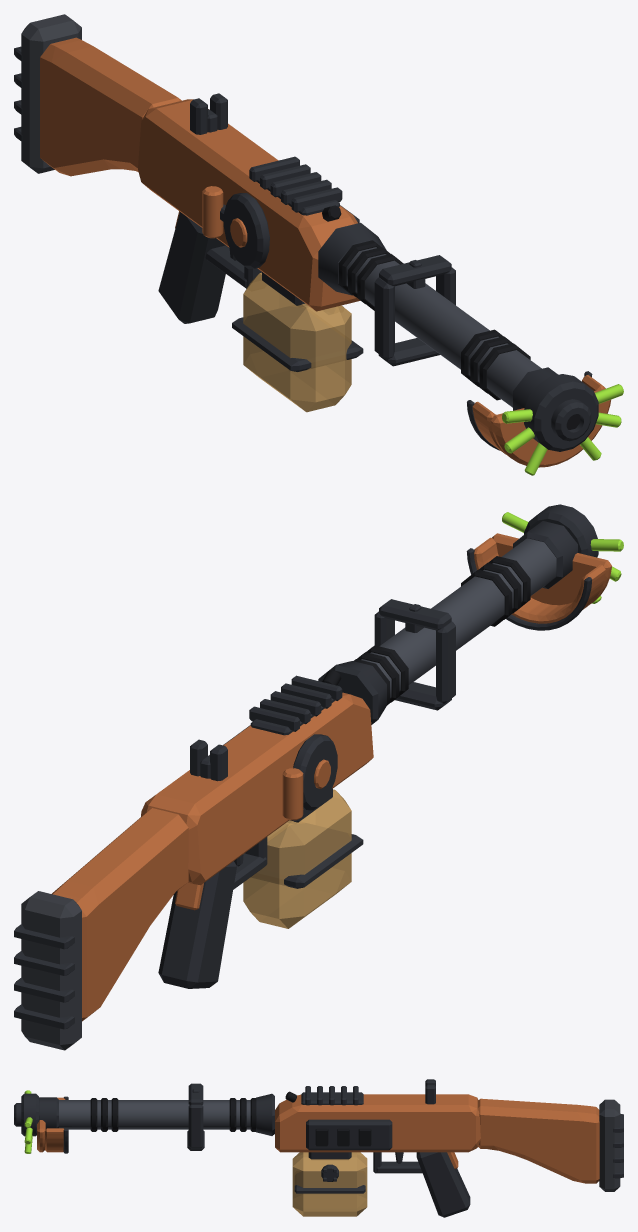
File: w_autoshot@autoshot_trimmer.glb
The picture shows the model from 3 angles, top to bottom: view 1: azimuth 30°, elevation 25°; view 2: azimuth 150°, elevation 25°; view 3: azimuth 270°, elevation 25°; orthographic projection. The views are drawn at different scales.
Visible parts, largest first — view 1: body_wzA__orange__pb5683a, stock_wzA__orange__pb5683a, mag_wzA__tank__gc69a5ad1, head_wzB__dark__p2b2e35, barrel_wzB__shaft__p444851, grip_wzB__dark__p2b2e35, mag_wzB__dark__p2b2e35, fore_wzB__dark__p2b2e35, stock_wzB__foam__p3a3d44, grips_wzN__black__p16171b, guard_wzA__orange__pb5683a, starter_wzB__dark__p2b2e35 (+4 smaller); view 2: body_wzA__orange__pb5683a, stock_wzA__orange__pb5683a, mag_wzA__tank__gc69a5ad1, barrel_wzB__shaft__p444851, grip_wzB__dark__p2b2e35, stock_wzB__foam__p3a3d44, head_wzB__dark__p2b2e35, mag_wzB__dark__p2b2e35, fore_wzB__dark__p2b2e35, guard_wzA__orange__pb5683a, grips_wzN__black__p16171b, stock_wzN__dark__p2b2e35 (+6 smaller); view 3: body_wzA__orange__pb5683a, stock_wzA__orange__pb5683a, barrel_wzB__shaft__p444851, mag_wzA__tank__gc69a5ad1, grip_wzB__dark__p2b2e35, head_wzB__dark__p2b2e35, muffler_wzB__dark__p2b2e35, stock_wzB__foam__p3a3d44, mag_wzB__dark__p2b2e35, grips_wzN__black__p16171b, fore_wzB__dark__p2b2e35, muffler_wzN__black__p16171b (+6 smaller).
Part boxes in pixels (x1,y1,x2,y2): body_wzA__orange__pb5683a: (138, 99, 360, 311); stock_wzA__orange__pb5683a: (40, 37, 181, 176); mag_wzA__tank__gc69a5ad1: (243, 272, 351, 412); head_wzB__dark__p2b2e35: (249, 156, 598, 451); barrel_wzB__shaft__p444851: (346, 247, 541, 407); grip_wzB__dark__p2b2e35: (158, 212, 261, 323); mag_wzB__dark__p2b2e35: (232, 272, 363, 371); fore_wzB__dark__p2b2e35: (374, 255, 455, 366); stock_wzB__foam__p3a3d44: (21, 14, 81, 173); grips_wzN__black__p16171b: (339, 240, 530, 400); guard_wzA__orange__pb5683a: (472, 375, 610, 467); starter_wzB__dark__p2b2e35: (223, 193, 269, 268); body_wzA__orange__pb5683a: (141, 692, 373, 885); stock_wzA__orange__pb5683a: (52, 808, 188, 1021); mag_wzA__tank__gc69a5ad1: (243, 789, 351, 928); barrel_wzB__shaft__p444851: (361, 538, 556, 697); grip_wzB__dark__p2b2e35: (158, 837, 267, 988); stock_wzB__foam__p3a3d44: (21, 891, 81, 1050); head_wzB__dark__p2b2e35: (249, 504, 598, 735); mag_wzB__dark__p2b2e35: (252, 789, 363, 888); fore_wzB__dark__p2b2e35: (374, 599, 455, 710); guard_wzA__orange__pb5683a: (474, 533, 611, 623); grips_wzN__black__p16171b: (353, 556, 530, 705); stock_wzN__dark__p2b2e35: (14, 924, 74, 1029); body_wzA__orange__pb5683a: (275, 1094, 480, 1152); stock_wzA__orange__pb5683a: (478, 1098, 599, 1183); barrel_wzB__shaft__p444851: (59, 1100, 250, 1129); mag_wzA__tank__gc69a5ad1: (292, 1152, 367, 1216); grip_wzB__dark__p2b2e35: (373, 1152, 470, 1217); head_wzB__dark__p2b2e35: (14, 1086, 363, 1136); muffler_wzB__dark__p2b2e35: (306, 1119, 392, 1150); stock_wzB__foam__p3a3d44: (599, 1099, 620, 1191); mag_wzB__dark__p2b2e35: (294, 1152, 365, 1193); grips_wzN__black__p16171b: (90, 1098, 255, 1131); fore_wzB__dark__p2b2e35: (187, 1083, 204, 1150); muffler_wzN__black__p16171b: (315, 1128, 371, 1146).
Size of the model in its own units: 0.1686 by 0.303 by 1.27.
